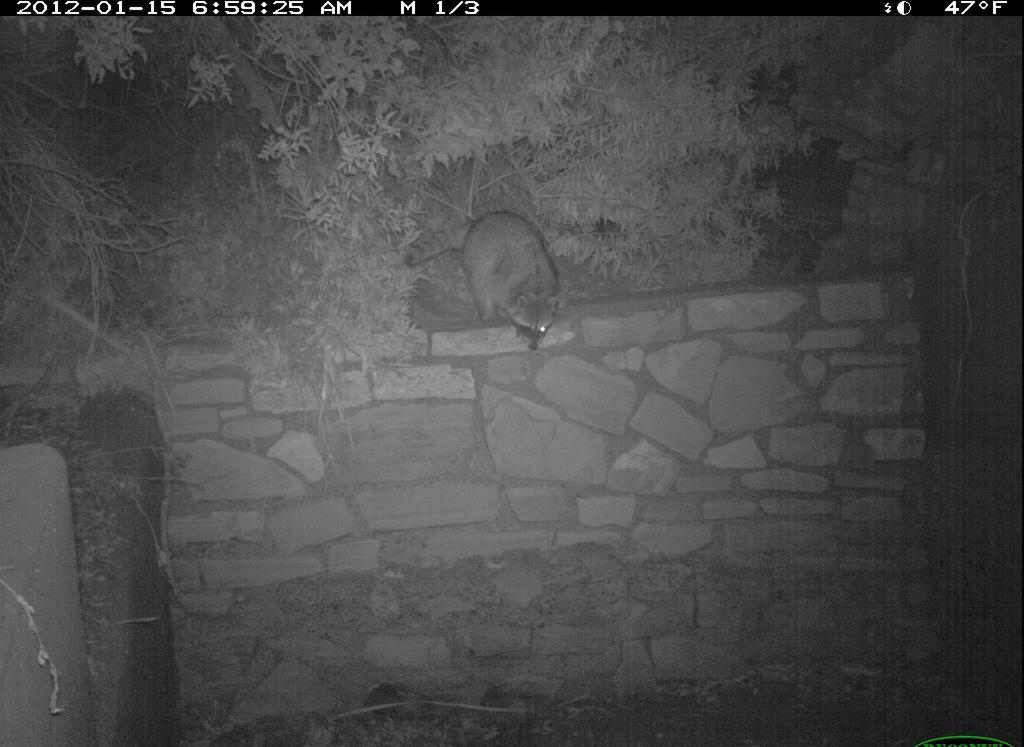raccoon: (395, 184, 580, 363)
